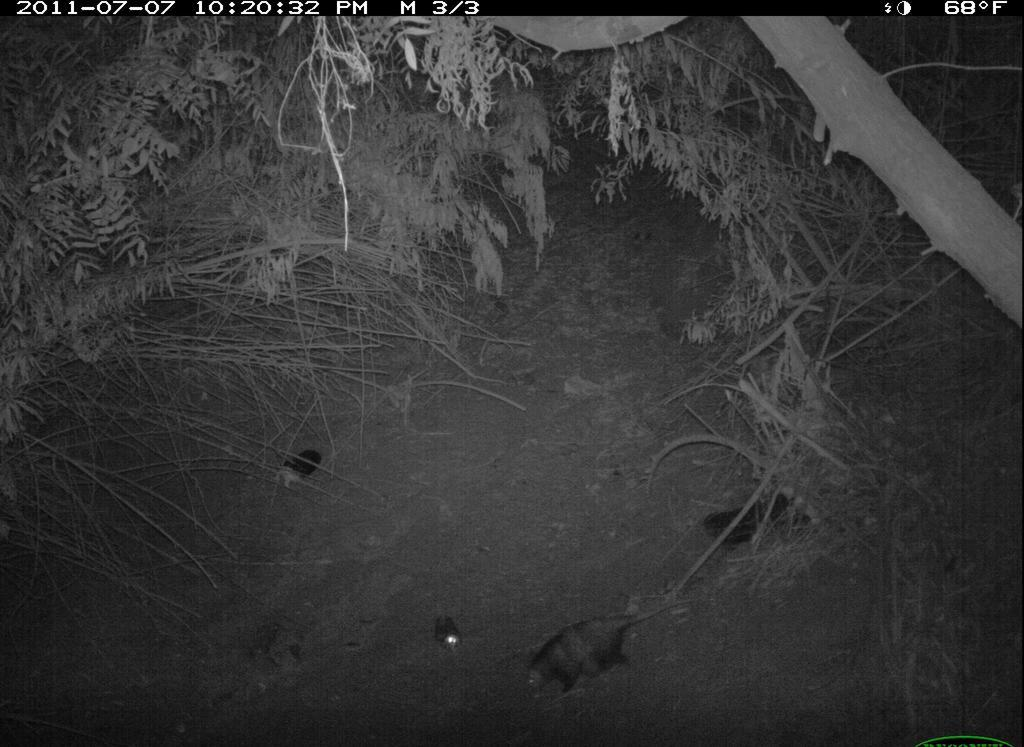opossum: (510, 582, 696, 706)
